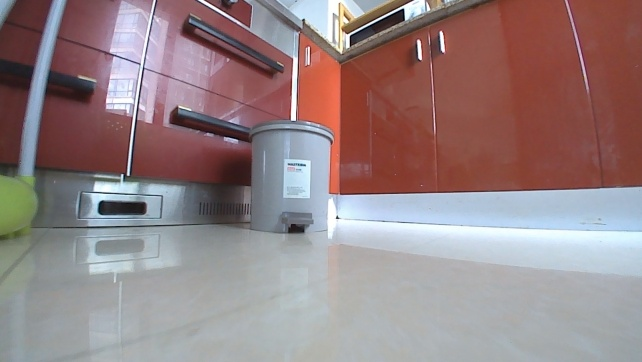cupboard: (0, 0, 641, 233)
